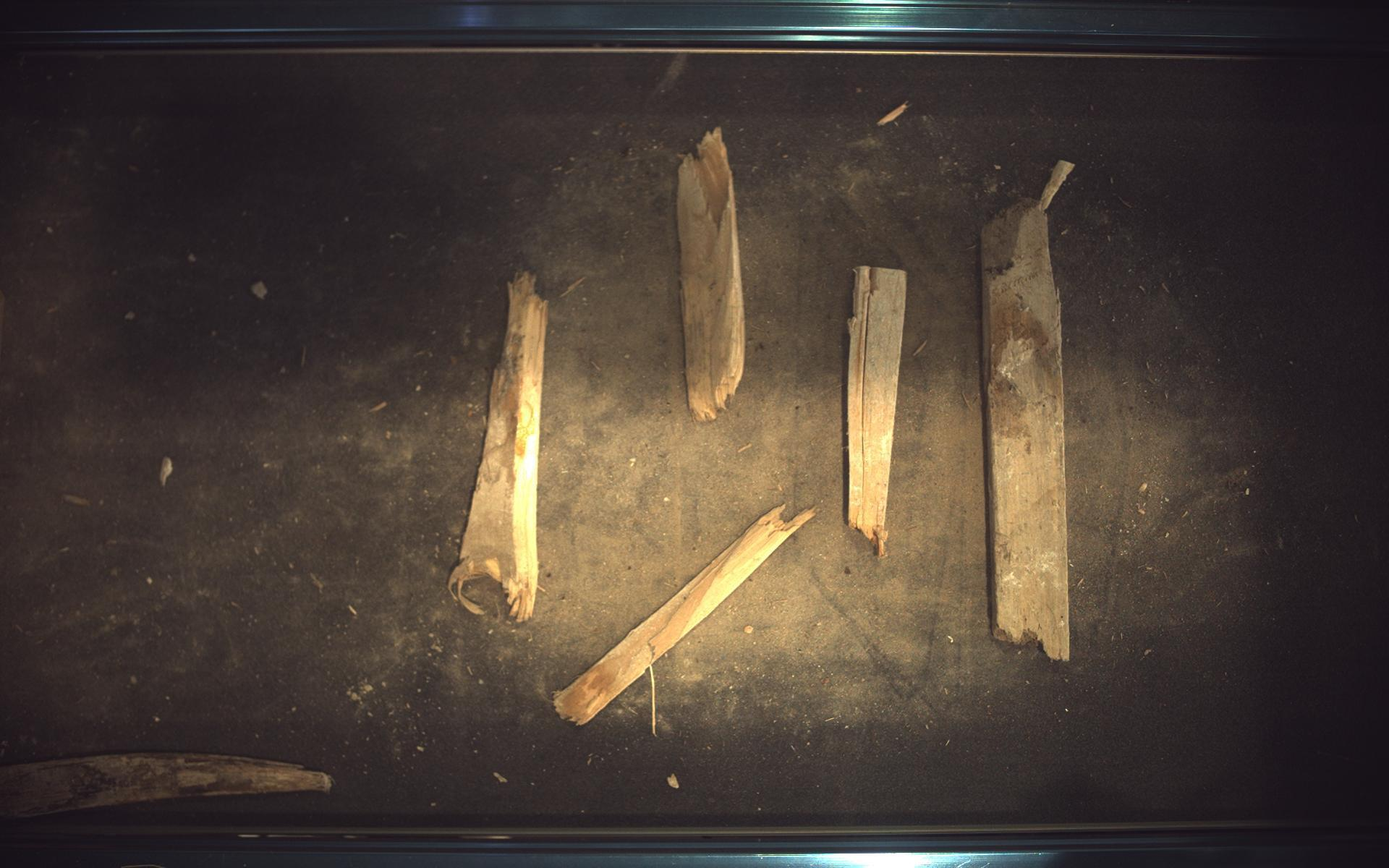wood: (554, 505, 820, 726), (984, 200, 1072, 661), (447, 271, 548, 624), (678, 126, 746, 421), (849, 265, 908, 558)
